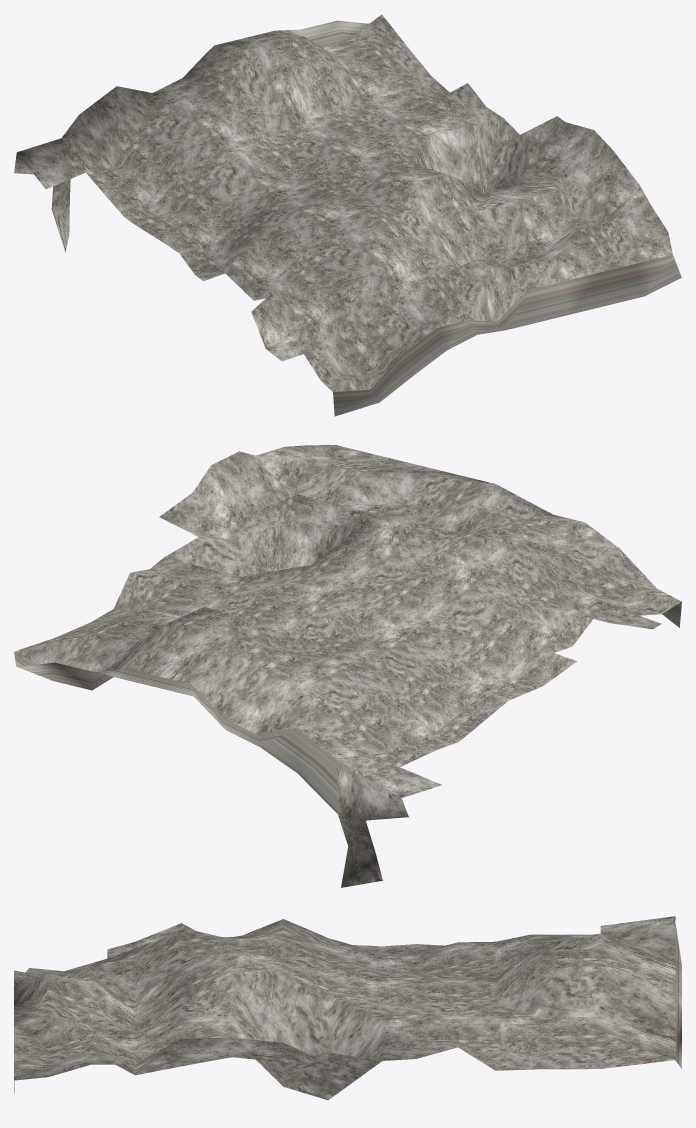
Rendered from DWARF_PALACE_WATER_ROOM_CAVEB.fbx.
3 renders of one model, top to bottom at view 1: azimuth 30°, elevation 25°; view 2: azimuth 150°, elevation 25°; view 3: azimuth 270°, elevation 25°, orthographic. The views are drawn at different scales.
Parts seen in each view (by area): view 1: DWARF_PALACE_WATER_ROOM_CAVEB; view 2: DWARF_PALACE_WATER_ROOM_CAVEB; view 3: DWARF_PALACE_WATER_ROOM_CAVEB.
Boxes of the visible parts, bbox=[...] form: DWARF_PALACE_WATER_ROOM_CAVEB: bbox=[14, 14, 681, 416]; DWARF_PALACE_WATER_ROOM_CAVEB: bbox=[14, 445, 681, 887]; DWARF_PALACE_WATER_ROOM_CAVEB: bbox=[14, 916, 681, 1100].
Bounding box in the file's own units: 343040 × 148046 × 457695.
Materials: 1 (1 with a texture image).
